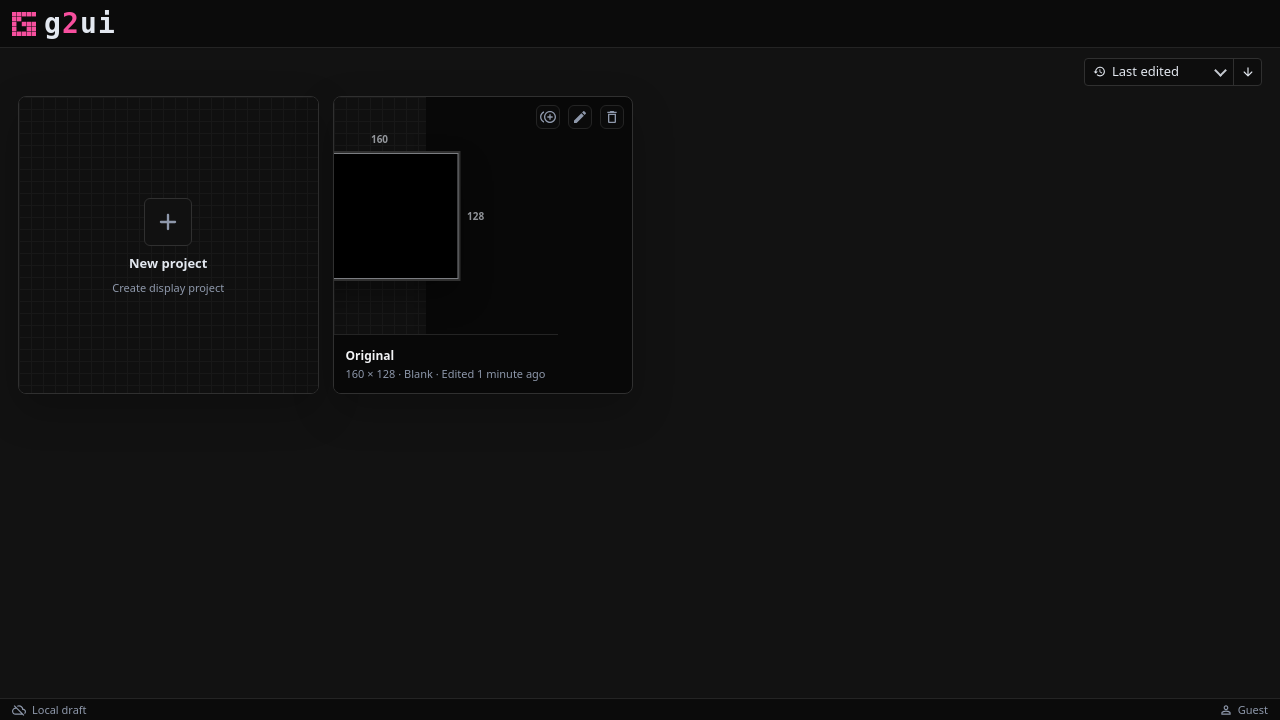
Test: LibraryPage: copy flow › duplicates a project via copy button
Click the button named "Copy Original": (548,117) [536,105,560,129]
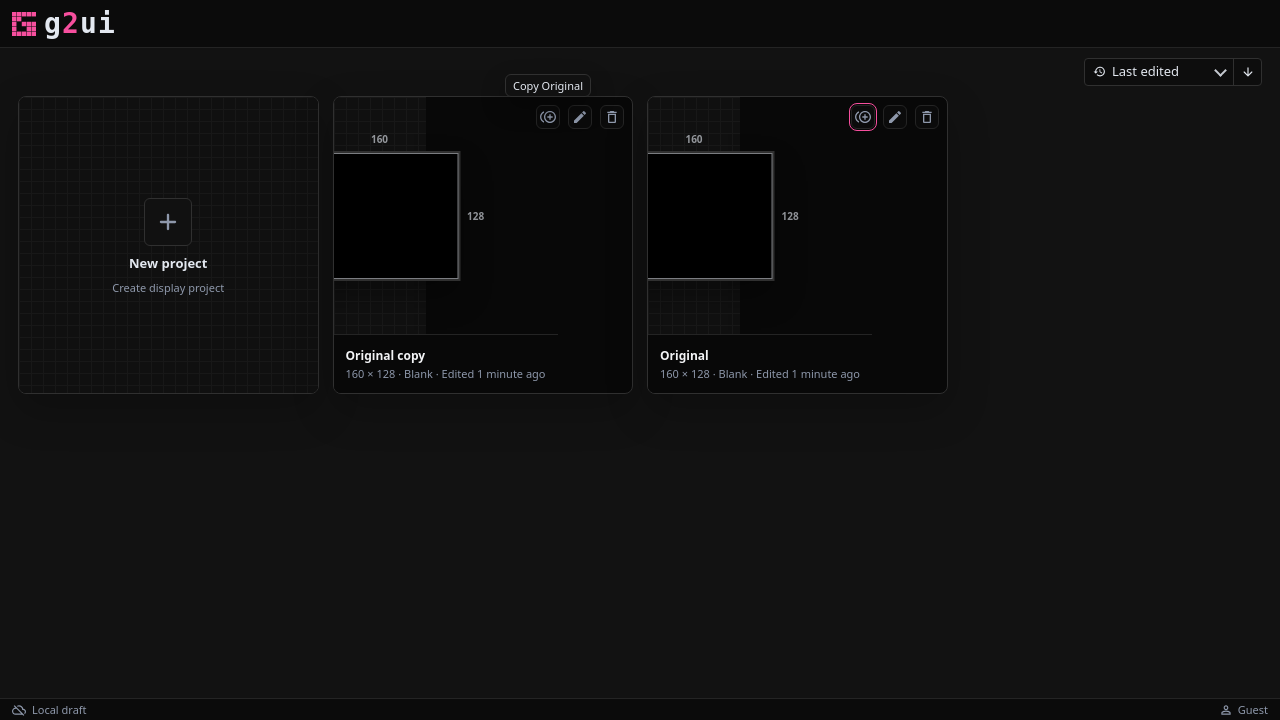
expect the text "Original" is shown: met, box [660,347,709,364]
expect the text "Original copy" is shown: met, box [346,347,425,364]
